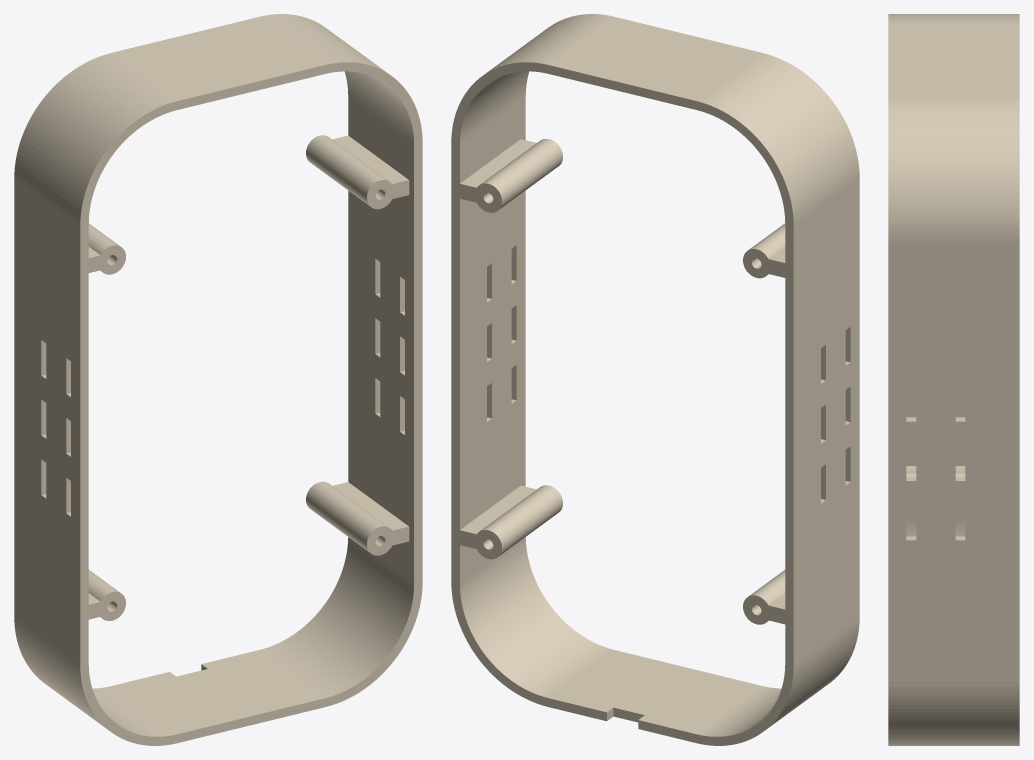
Rendered from 02_main_body.obj.
3 renders of one model, left to right at view 1: azimuth 30°, elevation 25°; view 2: azimuth 150°, elevation 25°; view 3: azimuth 270°, elevation 25°, orthographic.
Visible parts, largest first — view 1: 02_main_body; view 2: 02_main_body; view 3: 02_main_body.
Part boxes in pixels (<box>): 02_main_body: <box>14,14,422,745</box>; 02_main_body: <box>451,14,859,745</box>; 02_main_body: <box>888,14,1019,745</box>.
Size of the model in its own units: 120 by 215 by 40.
